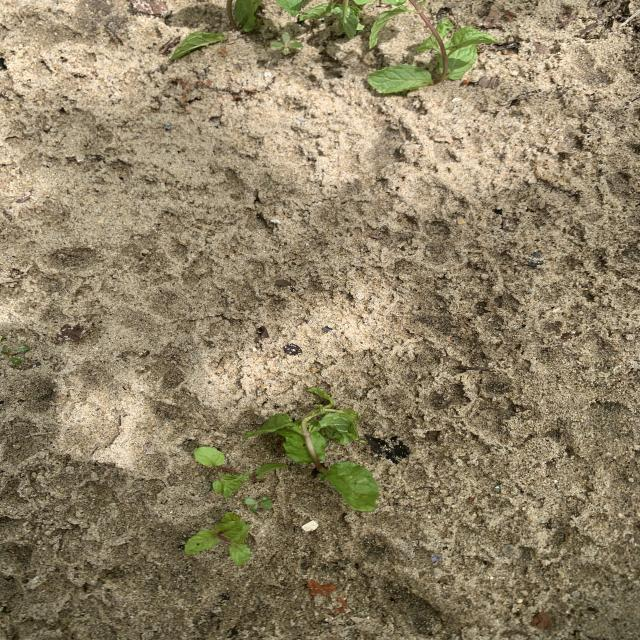crop: (244, 389, 377, 511), (367, 0, 500, 94), (195, 447, 286, 496), (184, 512, 250, 564), (299, 0, 370, 39), (226, 0, 262, 33)
weed: (1, 338, 28, 365), (270, 32, 301, 55), (243, 496, 273, 511)
